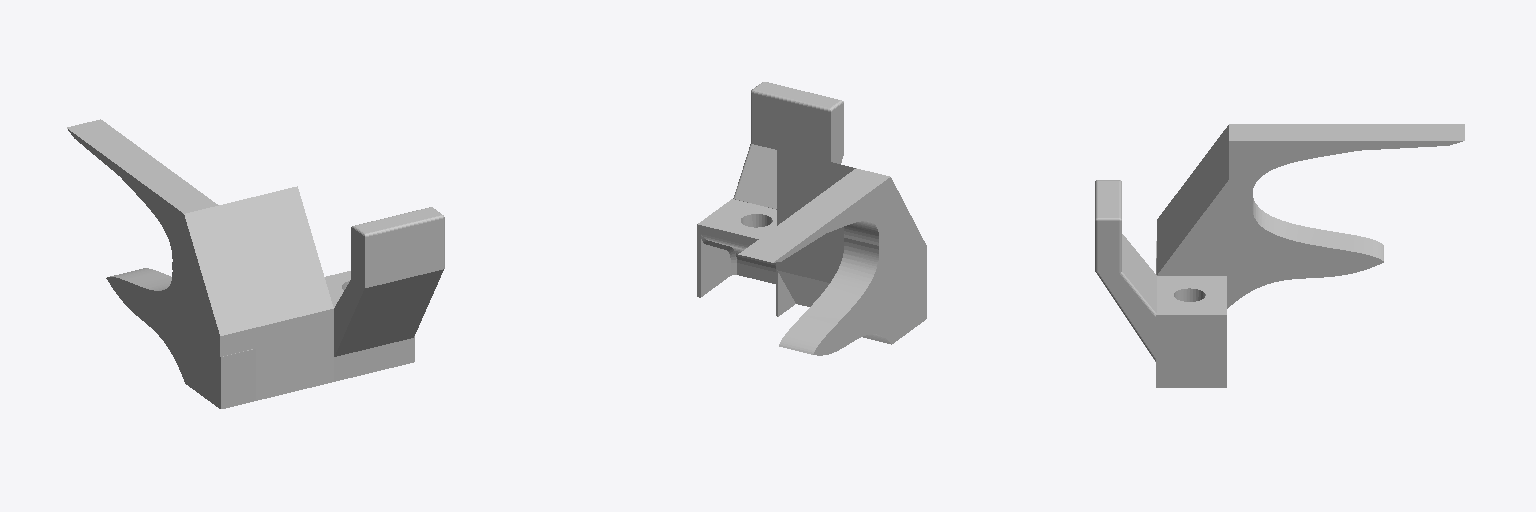
The model's file is Greifer_long_nose_new_rechts_centered.obj.
3 renders of one model, left to right at view 1: azimuth 30°, elevation 25°; view 2: azimuth 150°, elevation 25°; view 3: azimuth 270°, elevation 25°, orthographic.
Visible parts, largest first — view 1: Greifer_long_nose_new_rechts; view 2: Greifer_long_nose_new_rechts; view 3: Greifer_long_nose_new_rechts.
Boxes of the visible parts, x1=… form: Greifer_long_nose_new_rechts: x1=67, y1=119, x2=444, y2=408; Greifer_long_nose_new_rechts: x1=697, y1=82, x2=926, y2=355; Greifer_long_nose_new_rechts: x1=1095, y1=124, x2=1464, y2=387.
Size of the model in its own units: 41.98 by 34.79 by 69.